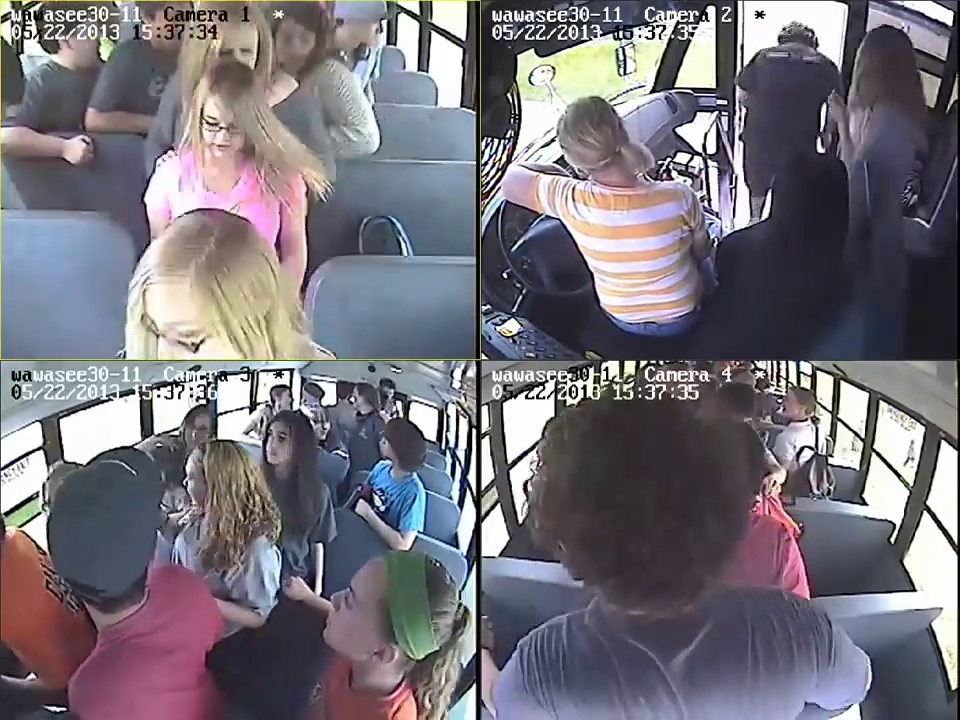face: (319, 572, 396, 666), (201, 98, 244, 157), (218, 24, 262, 63), (275, 24, 313, 68), (261, 428, 294, 467)
